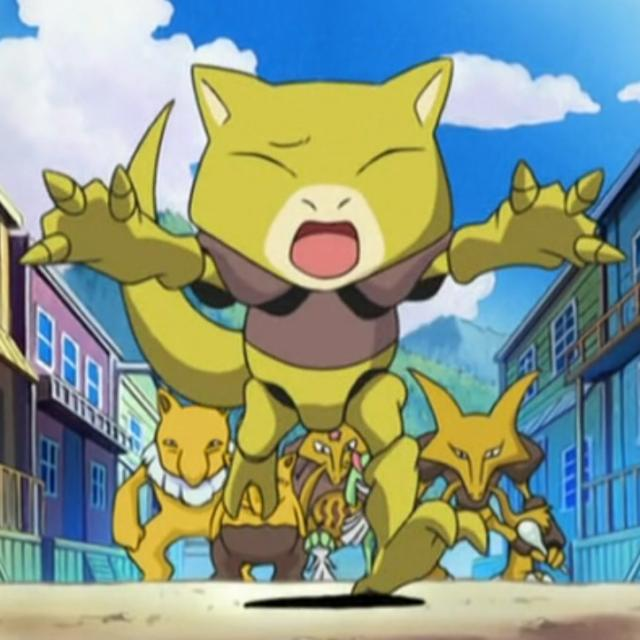Abra: (187, 57, 467, 384)
Alakazam: (417, 380, 558, 578)
Hypno: (130, 390, 244, 582)
